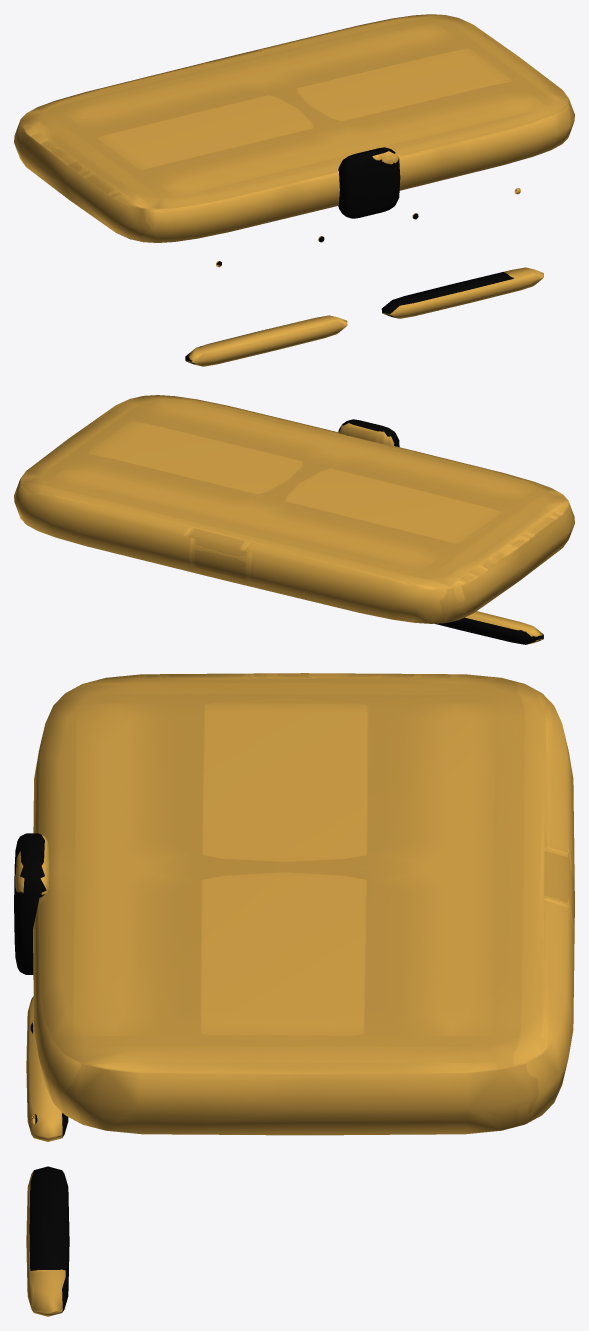
Rendered from Centinela_PetoBajo_Oro.fbx.
3 renders of one model, top to bottom at view 1: azimuth 30°, elevation 25°; view 2: azimuth 150°, elevation 25°; view 3: azimuth 270°, elevation 25°, orthographic. The views are drawn at different scales.
Visible parts, largest first — view 1: Centinela_PetoBajo_Oro; view 2: Centinela_PetoBajo_Oro; view 3: Centinela_PetoBajo_Oro.
Boxes of the visible parts, x1=… form: Centinela_PetoBajo_Oro: x1=14, y1=14, x2=574, y2=366; Centinela_PetoBajo_Oro: x1=14, y1=395, x2=574, y2=644; Centinela_PetoBajo_Oro: x1=14, y1=673, x2=574, y2=1316.
Bounding box in the file's own units: 2.24 × 0.8162 × 1.3.
